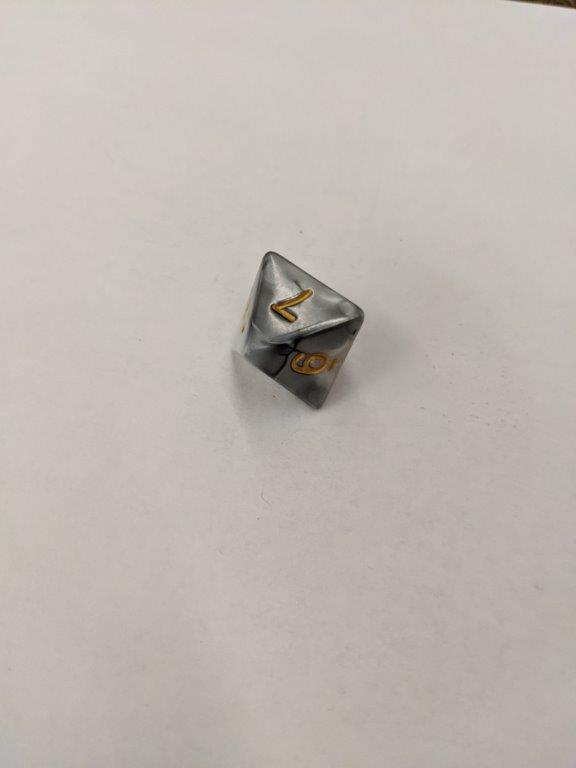d8-7: (235, 252, 365, 415)
